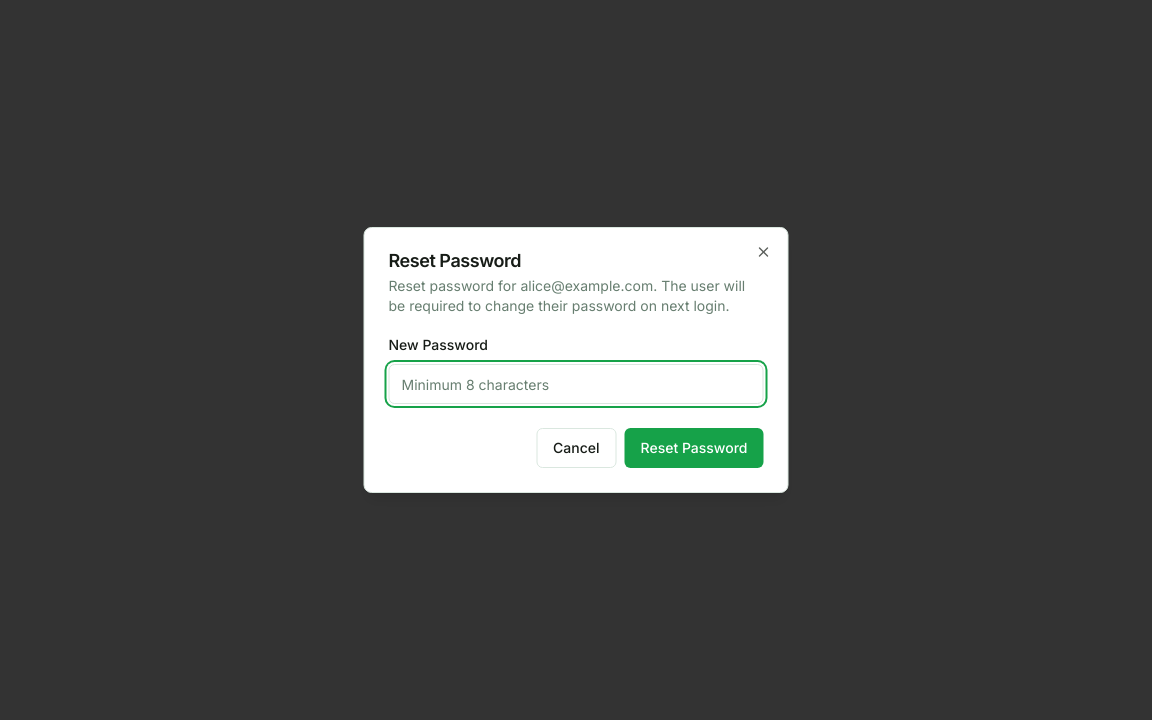
it: ResetPasswordDialog › form resets when cancel is clicked
Type a password
Type "somepassword" into the password field with test id "reset-password-input" at (576, 384), box [388,364,764,404]
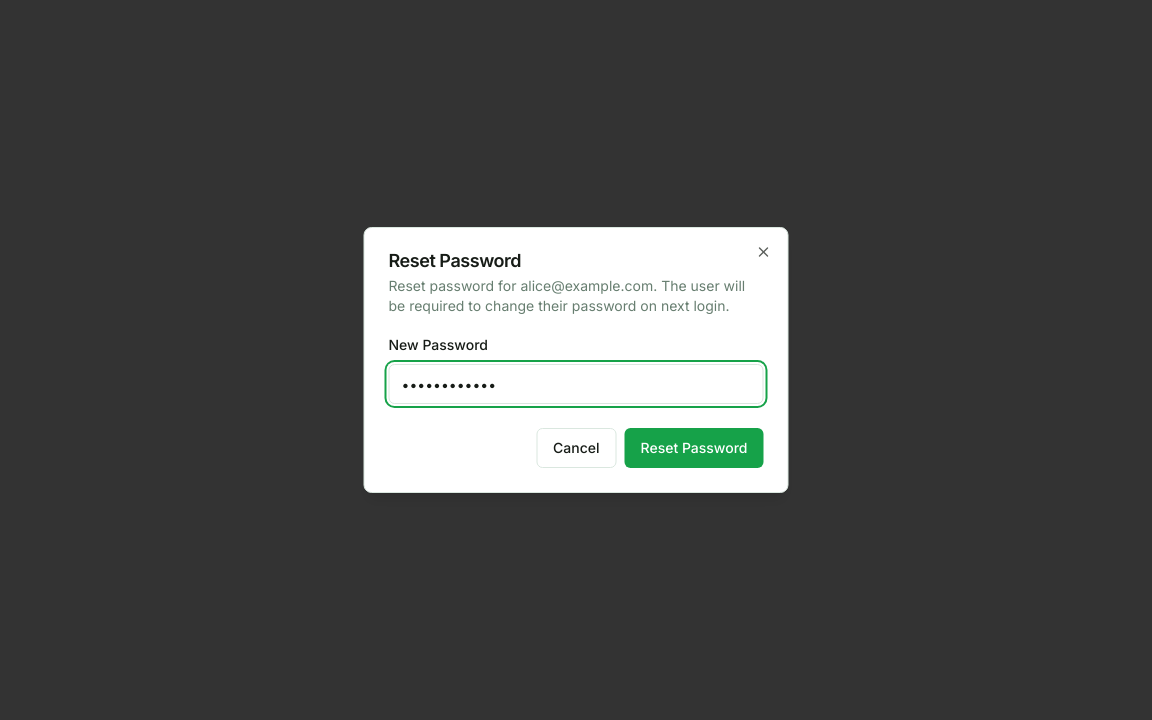
Click the button "Cancel" at (576, 448), box [536,428,617,468]
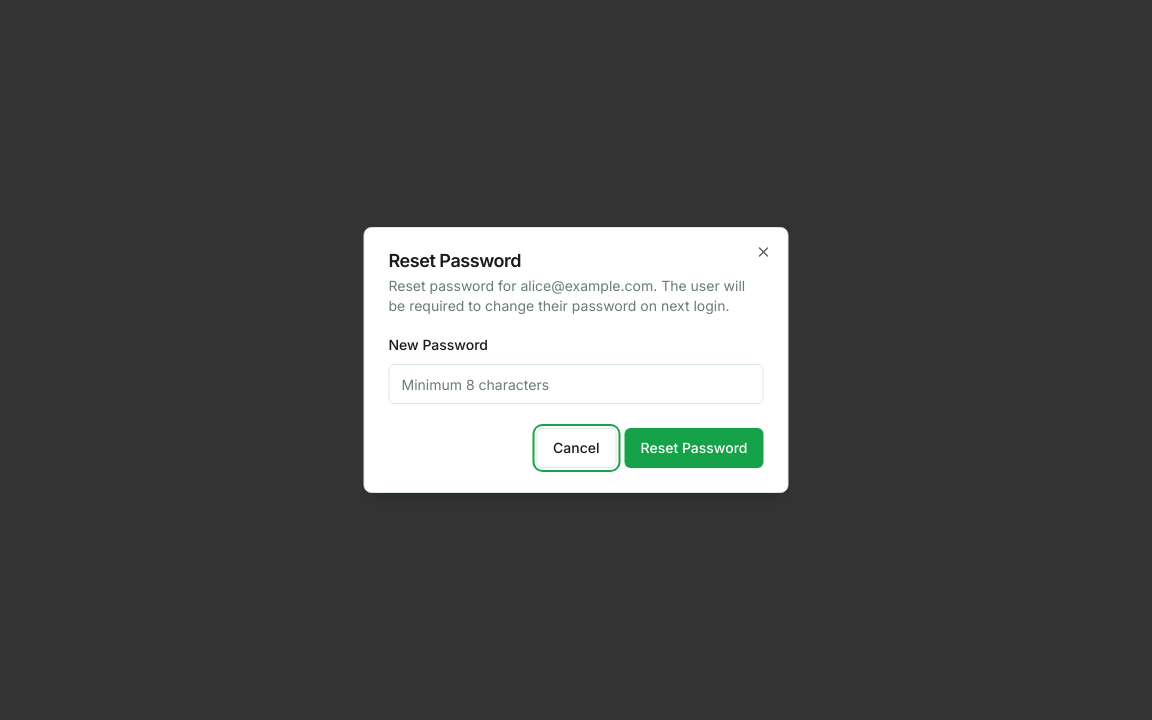
Now the password field with test id "reset-password-input" is empty, box [388,364,764,404]
